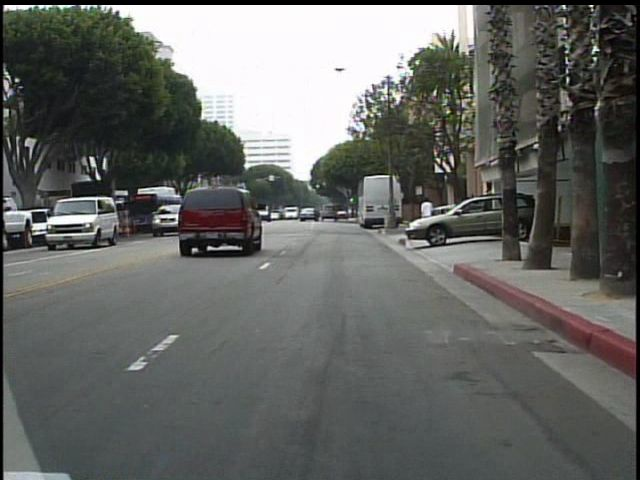person: (417, 194, 437, 238)
